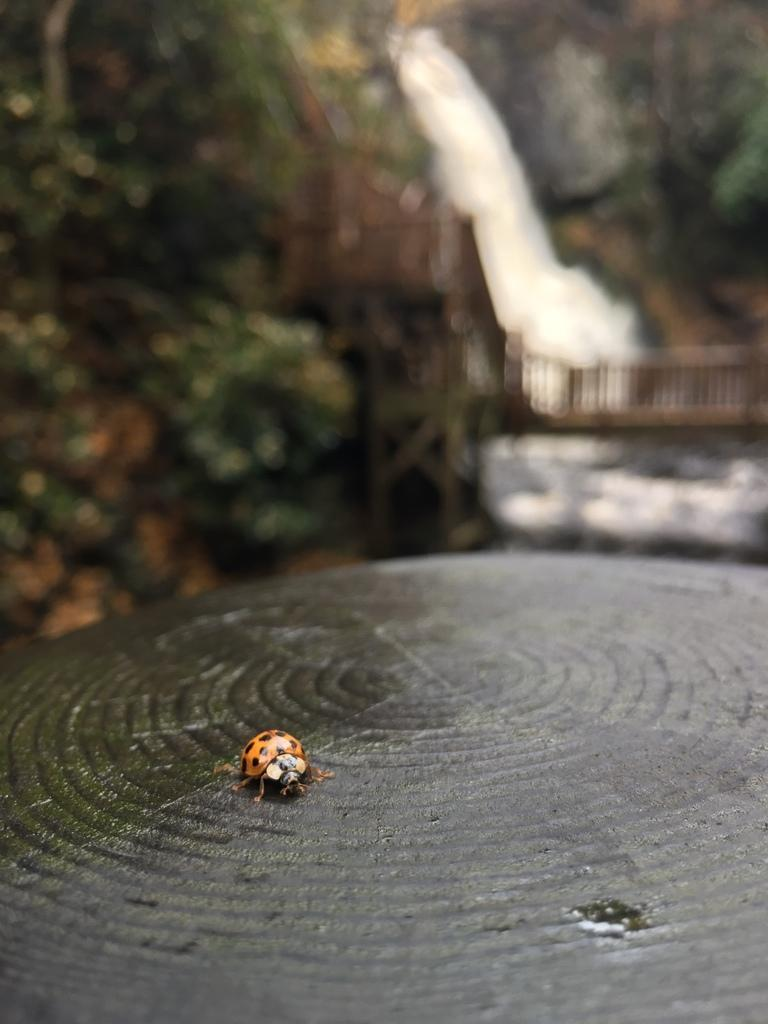ladybug: (228, 727, 342, 808)
